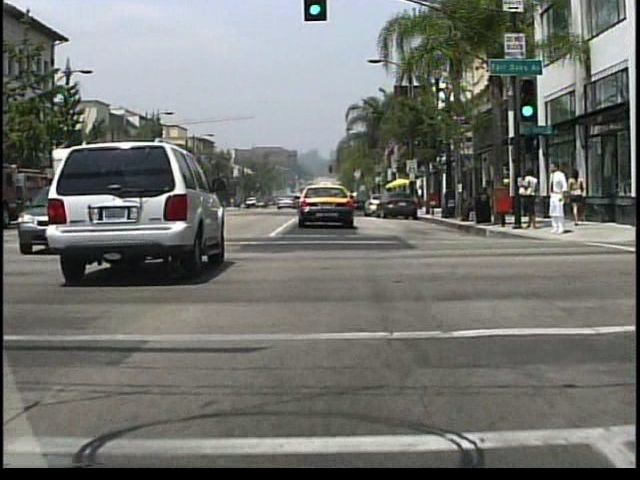person: (547, 161, 569, 236), (520, 165, 540, 234), (566, 168, 583, 226), (458, 188, 480, 223), (479, 179, 491, 221), (416, 186, 426, 213)
